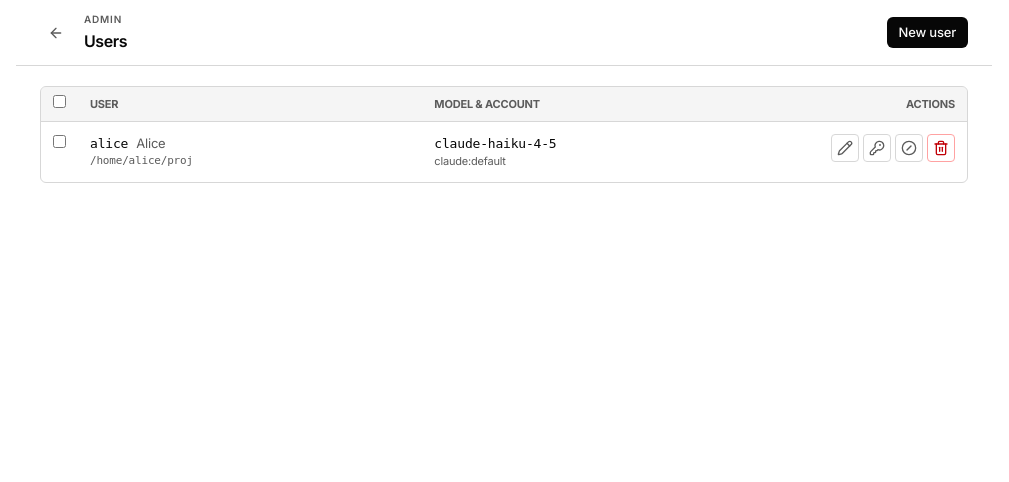
Test case: AdminUsers legacy default-model rendering › renders the per-user default model in the list and seeds the edit picker
Expected: the text with test id "default-model-u1" reads "claude-haiku-4-5", [434, 136, 556, 150]
Click the button named "Edit". click: (845, 148)
box: [831, 134, 859, 162]
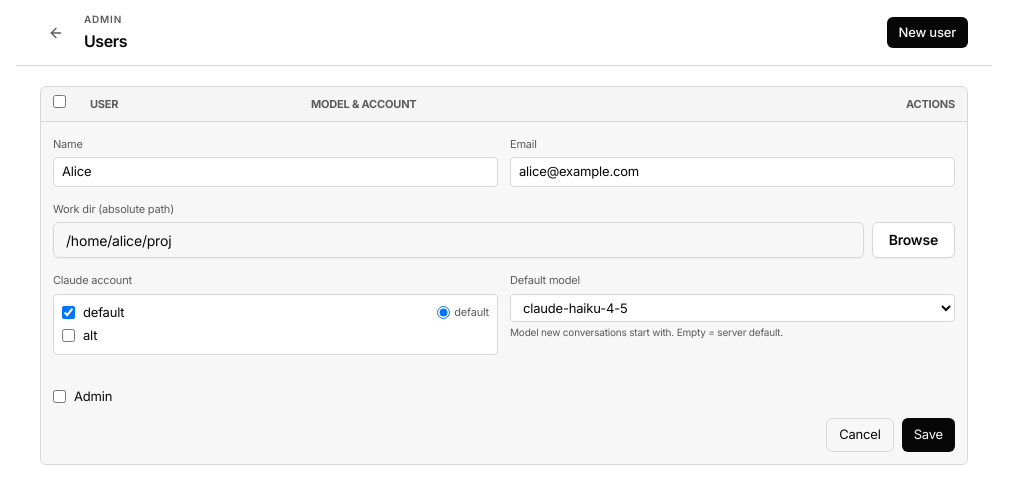
Result: the dropdown with test id "edit-default-model" shows "claude-haiku-4-5" at [510, 294, 955, 322]
